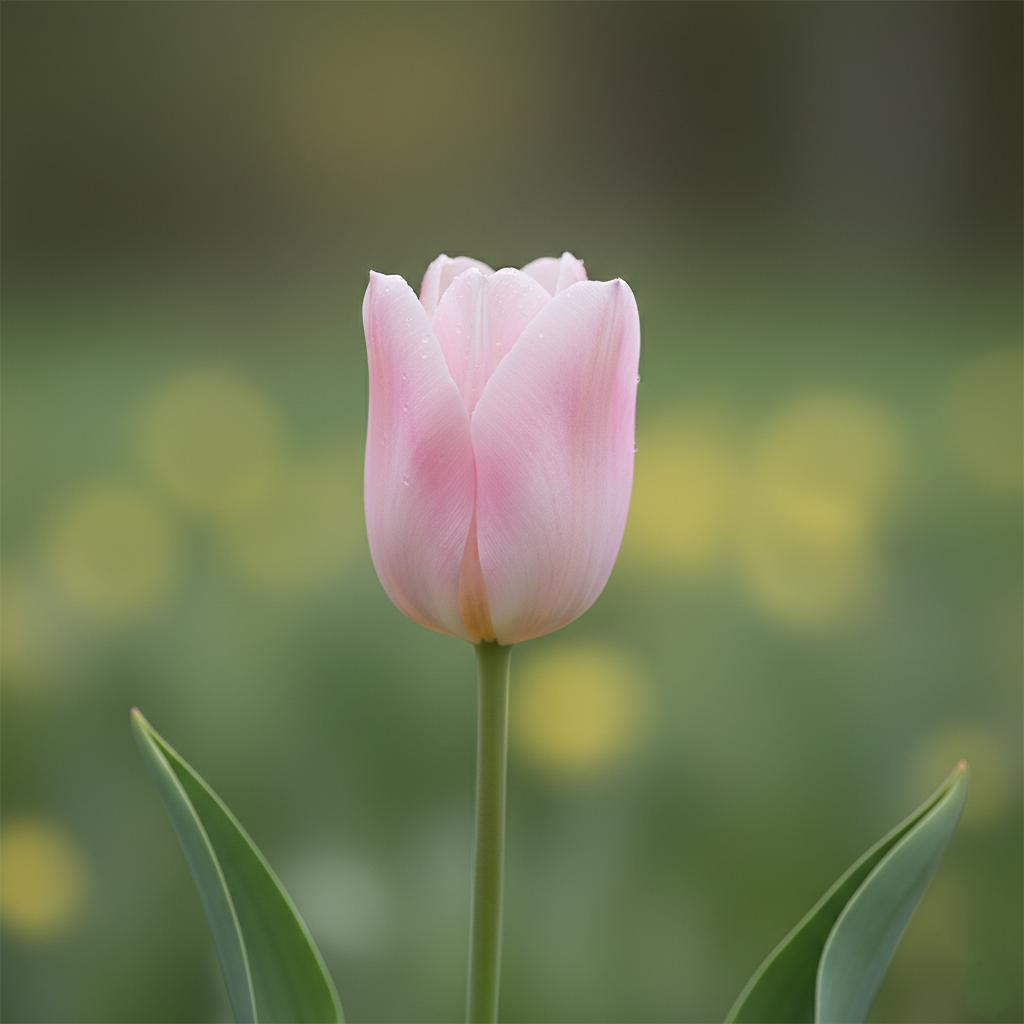tulip: (359, 249, 641, 648)
